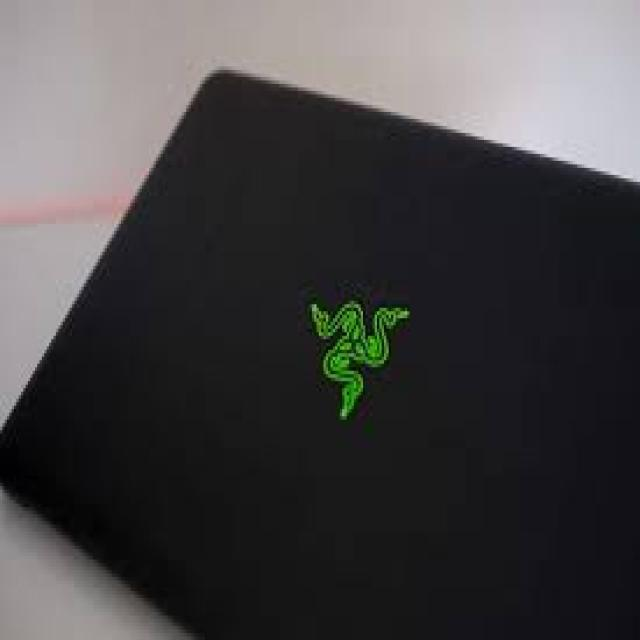laptop: (0, 63, 638, 636)
